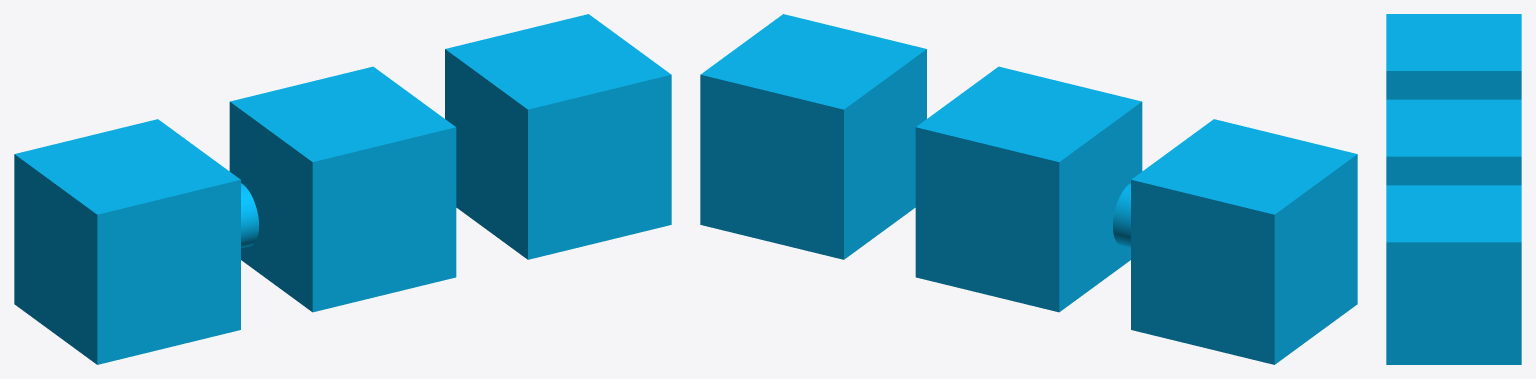
Rendered from indexed_gt_X_1_silindir.gltf.
3 views of the same model, side by side, from view 1: azimuth 30°, elevation 25°; view 2: azimuth 150°, elevation 25°; view 3: azimuth 270°, elevation 25° (orthographic). The views are drawn at different scales.
Visible parts, largest first — view 1: Open CASCADE STEP translator 7.8 5.1, Open CASCADE STEP translator 7.8 5.3, Open CASCADE STEP translator 7.8 5.2; view 2: Open CASCADE STEP translator 7.8 5.1, Open CASCADE STEP translator 7.8 5.3, Open CASCADE STEP translator 7.8 5.2; view 3: Open CASCADE STEP translator 7.8 5.3, Open CASCADE STEP translator 7.8 5.2, Open CASCADE STEP translator 7.8 5.1.
Boxes of the visible parts, x1,y1,x2,y2 form: Open CASCADE STEP translator 7.8 5.1: (14,119,258,364); Open CASCADE STEP translator 7.8 5.3: (445,14,671,259); Open CASCADE STEP translator 7.8 5.2: (229,66,456,312); Open CASCADE STEP translator 7.8 5.1: (1113,119,1357,364); Open CASCADE STEP translator 7.8 5.3: (700,14,926,259); Open CASCADE STEP translator 7.8 5.2: (915,66,1142,312); Open CASCADE STEP translator 7.8 5.3: (1386,185,1521,364); Open CASCADE STEP translator 7.8 5.2: (1386,99,1521,185); Open CASCADE STEP translator 7.8 5.1: (1386,14,1521,99).
Bounding box in the file's own units: 0.04 × 0.01 × 0.01.
